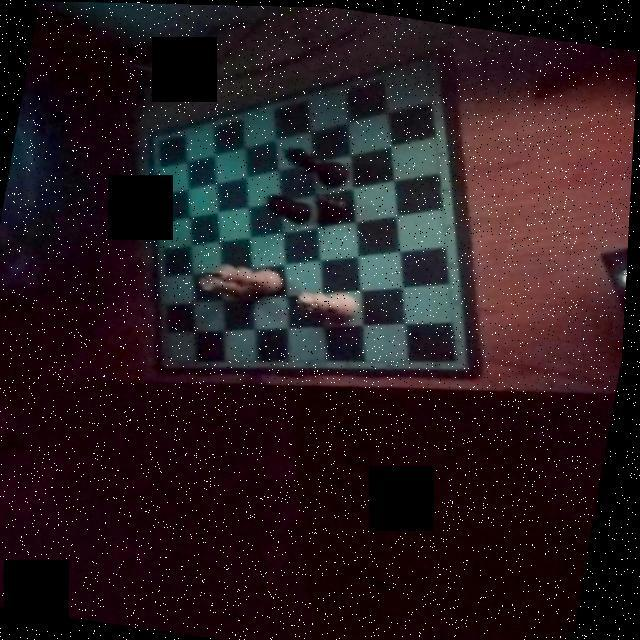chess-table-corners: (412, 47, 442, 75), (142, 125, 172, 152), (151, 347, 180, 373), (444, 346, 472, 369)
